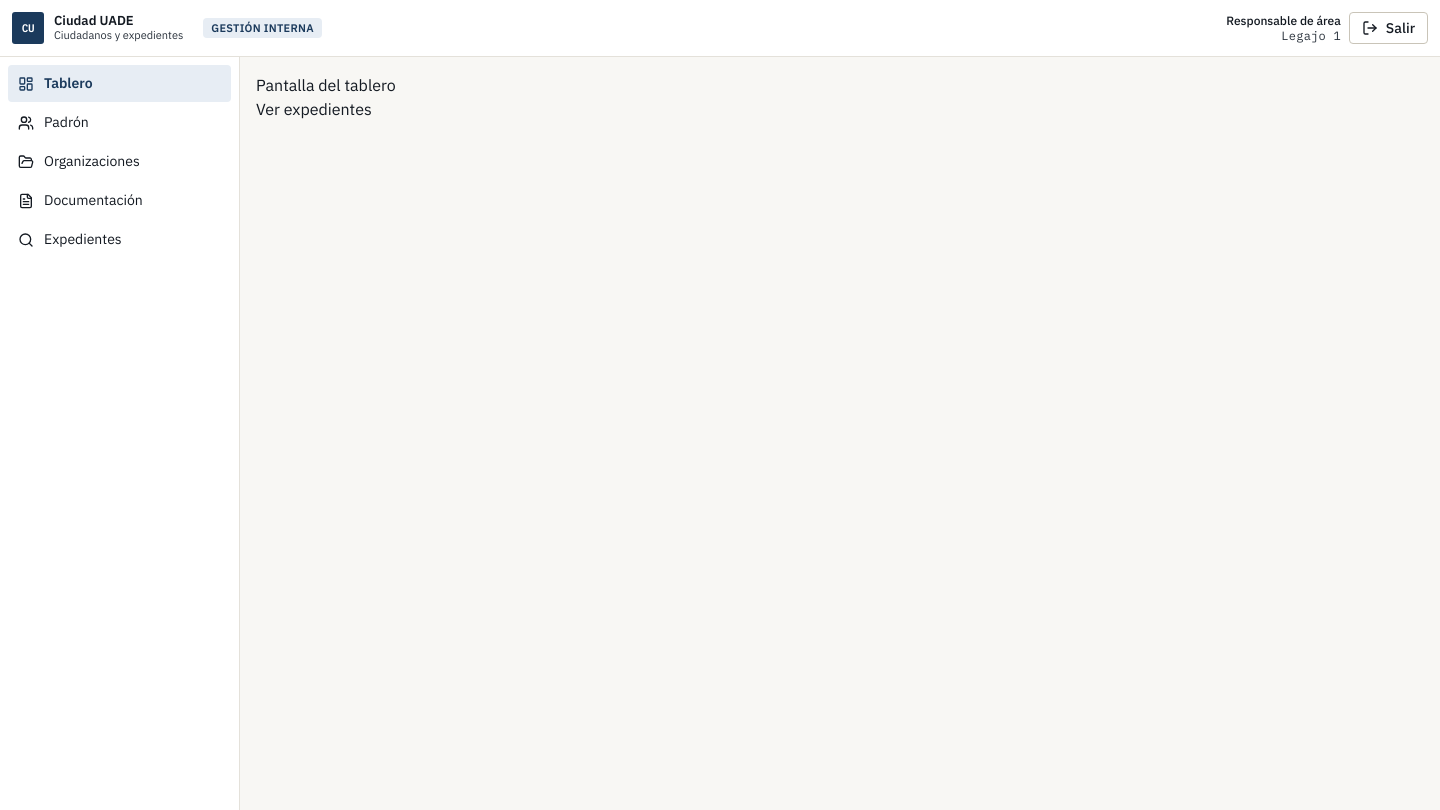
Scenario: LayoutAdmin: cambio de sección › bajar en el menú empuja hacia abajo, pasando por las secciones del medio
Click the link "Expedientes": (70, 239) [18,230,122,248]
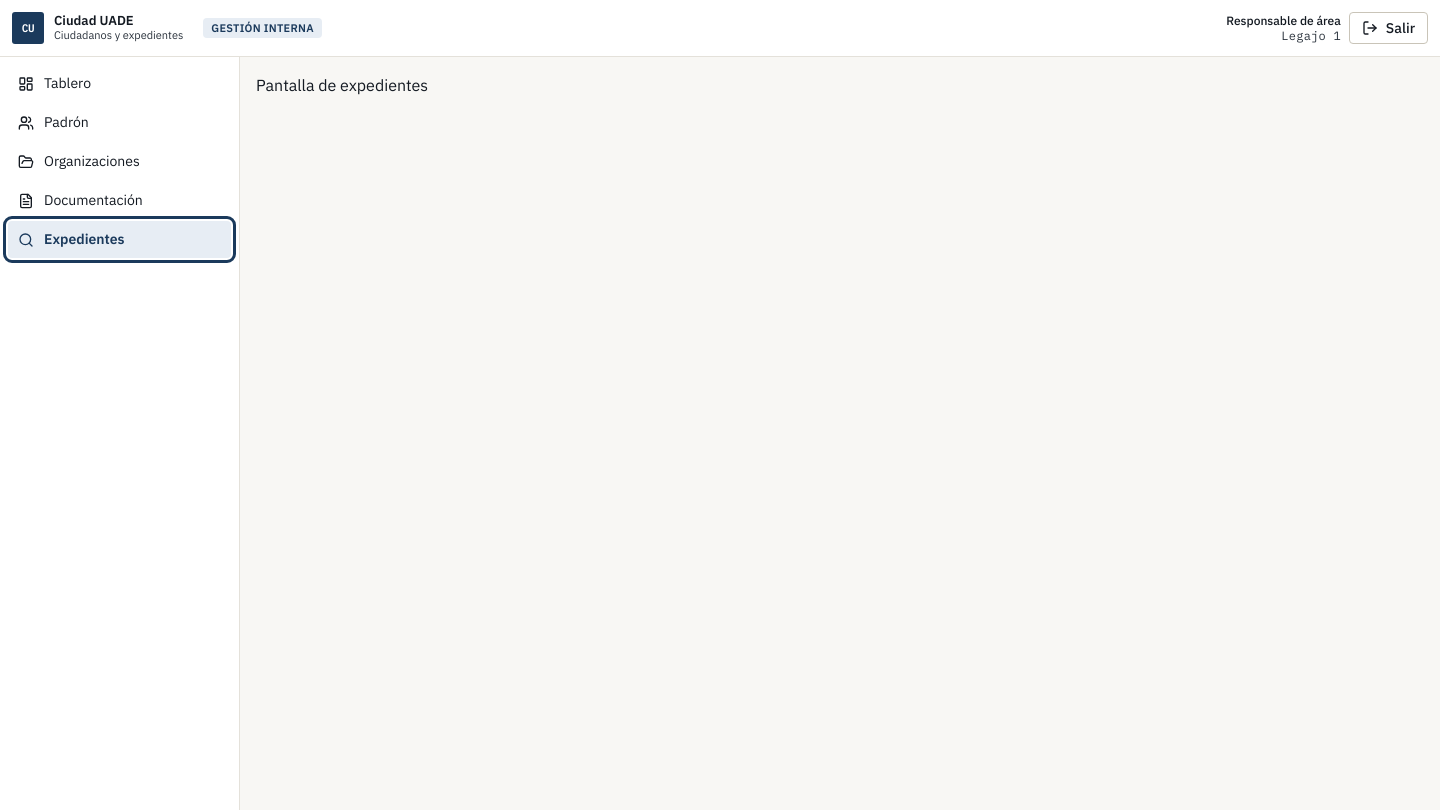
Expected: the text "Pantalla de expedientes" is shown, [256,75,428,95]
